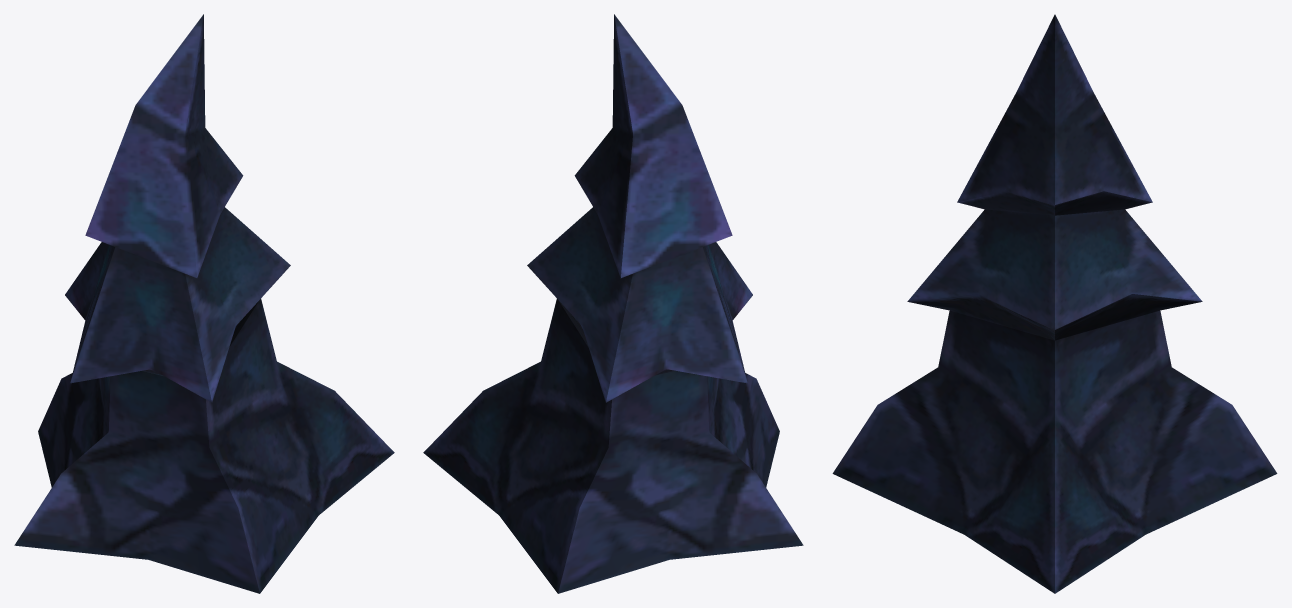
Rendered from palace_floorspikes_03.fbx.
3 renders of one model, left to right at view 1: azimuth 30°, elevation 25°; view 2: azimuth 150°, elevation 25°; view 3: azimuth 270°, elevation 25°, orthographic.
Visible parts, largest first — view 1: palace_floorspikes_02; view 2: palace_floorspikes_02; view 3: palace_floorspikes_02.
Boxes of the visible parts, x1,y1,x2,y2 form: palace_floorspikes_02: [14, 14, 394, 593]; palace_floorspikes_02: [423, 14, 803, 593]; palace_floorspikes_02: [832, 14, 1277, 593].
Bounding box in the file's own units: 1.95 × 2.38 × 1.97.
